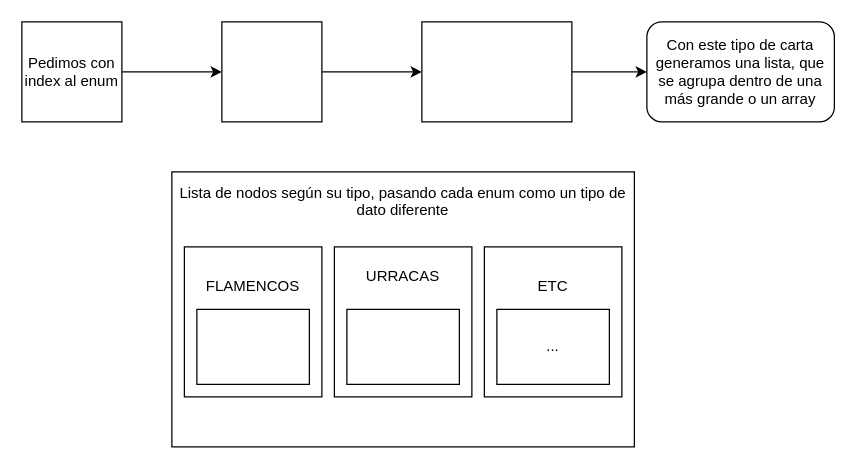
The diagram is 856 pixels wide and 469 high, and some of its shapes have lost their labels. Each missing label, with the centre of its shape:
con el tipo tenemos que recuperar los datos de la carta!: pixel 496 71
flamenco 1, flamenco 2...: pixel 252 346
la funcion nos devuleve el tipo: pixel 271 71
urraca 1, urraca 2...: pixel 402 346
